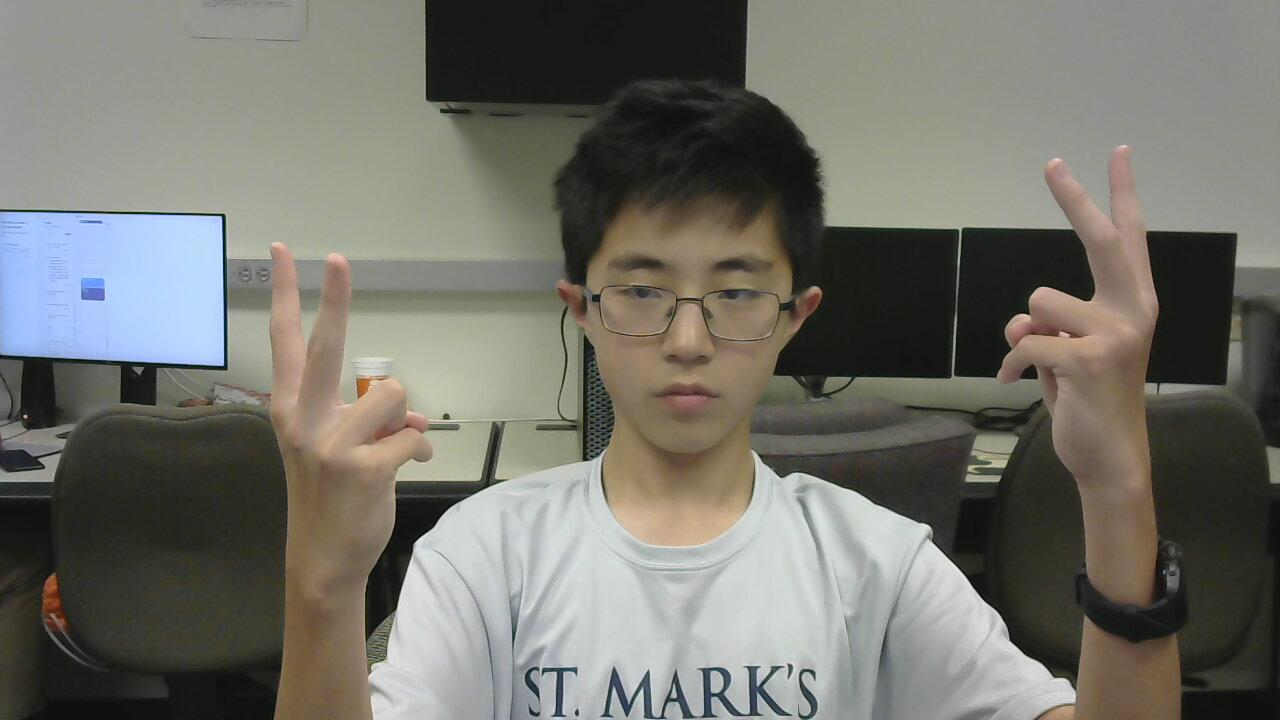peace: (241, 232, 439, 596), (998, 137, 1189, 489)
